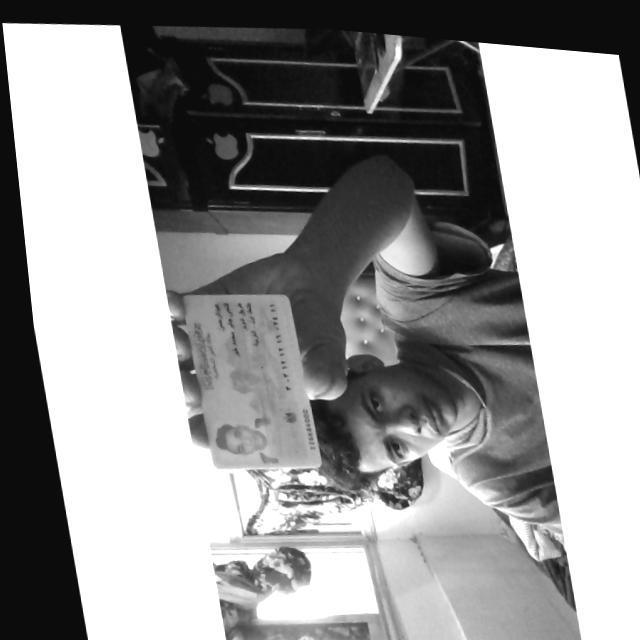id_card: (184, 293, 319, 467)
